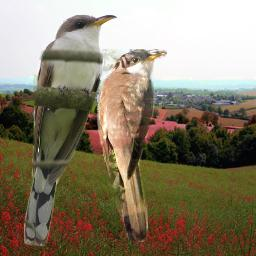Cuckoo: (24, 13, 119, 246), (97, 49, 167, 242)
